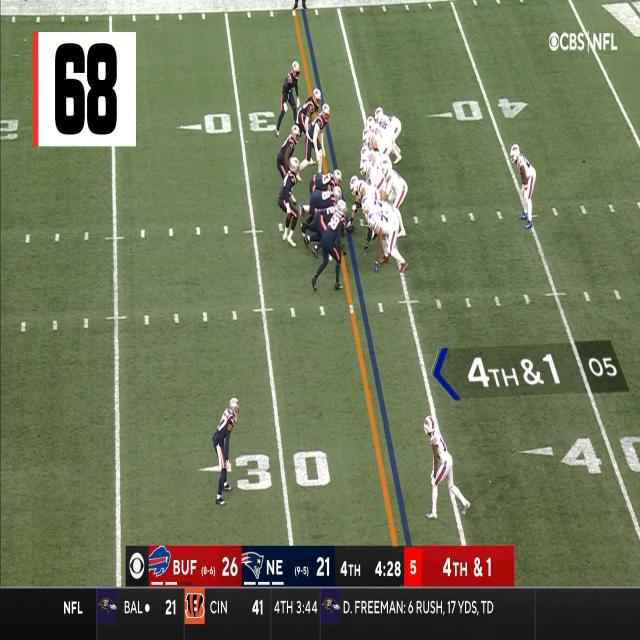football: (346, 220, 354, 234)
players: (423, 415, 470, 524), (310, 201, 347, 291), (213, 398, 243, 506), (364, 211, 408, 275), (298, 103, 334, 180), (510, 145, 538, 229), (362, 196, 401, 256), (384, 158, 413, 238), (276, 62, 305, 137), (301, 187, 343, 237), (277, 158, 299, 248), (311, 203, 347, 258), (312, 204, 347, 258), (350, 173, 379, 235), (276, 125, 300, 198), (375, 106, 402, 164), (297, 89, 322, 141), (360, 156, 385, 198), (366, 116, 395, 150), (310, 169, 342, 195), (363, 127, 391, 156), (362, 147, 392, 171)
